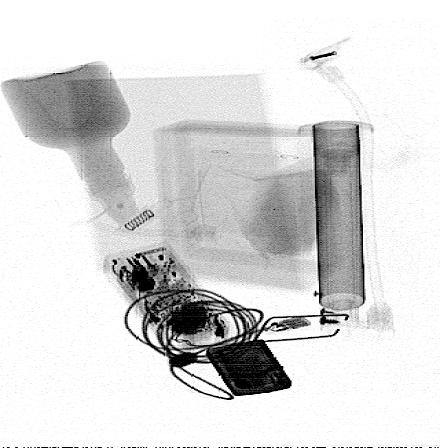Lighter: (205, 339, 292, 397)
